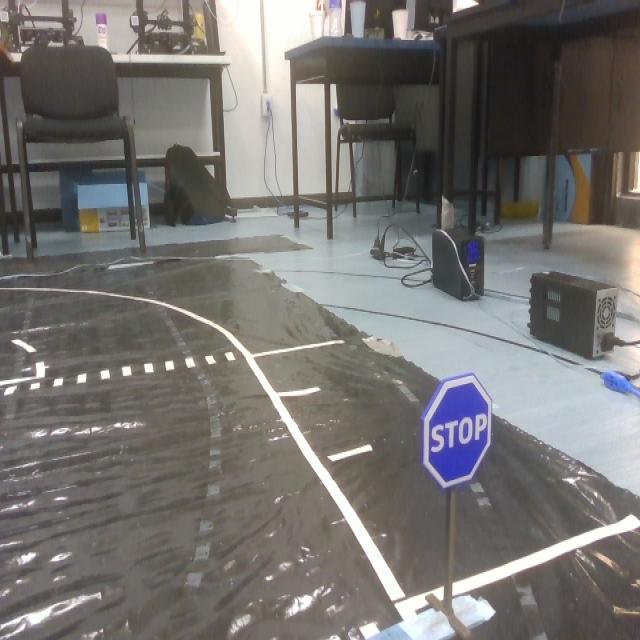no_entry: (418, 374, 496, 490)
